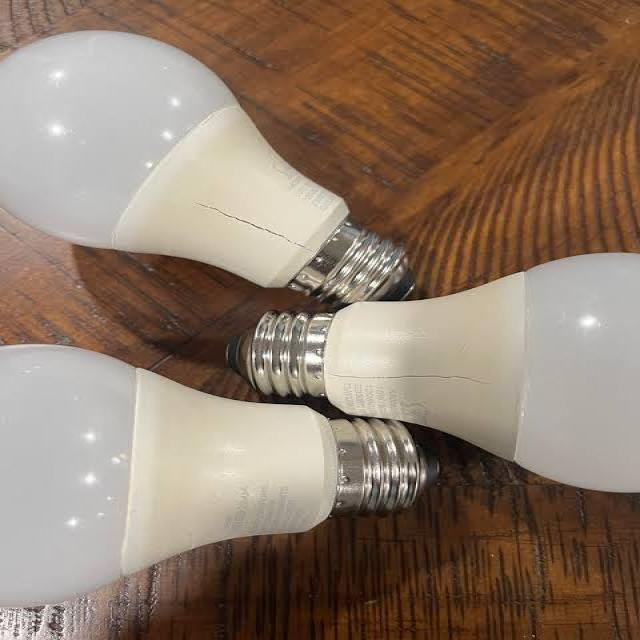bulb: (3, 25, 416, 303)
